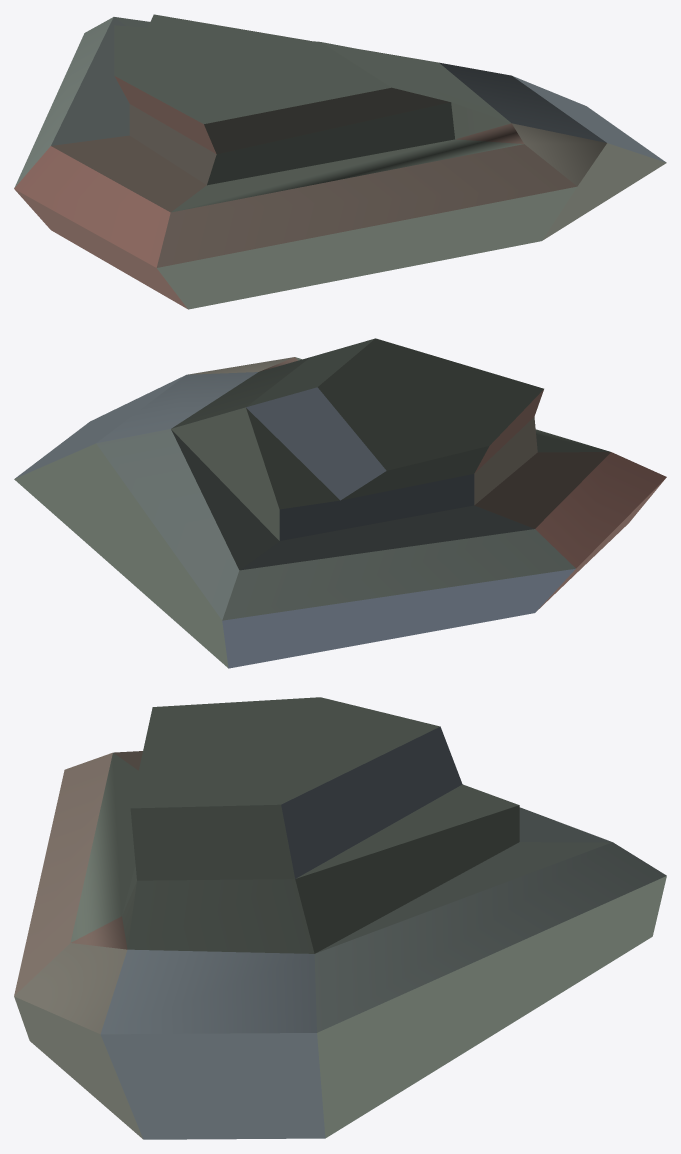
The model's file is butte-sloped.fbx.
3 views of the same model, one above another, from view 1: azimuth 30°, elevation 25°; view 2: azimuth 150°, elevation 25°; view 3: azimuth 270°, elevation 25° (orthographic). The views are drawn at different scales.
Parts seen in each view (by area): view 1: Mesh; view 2: Mesh; view 3: Mesh.
Boxes of the visible parts, x1,y1,x2,y2 form: Mesh: (14,14,666,309); Mesh: (14,338,666,668); Mesh: (14,697,666,1139).
Bounding box in the file's own units: 1877 × 465 × 1600.
